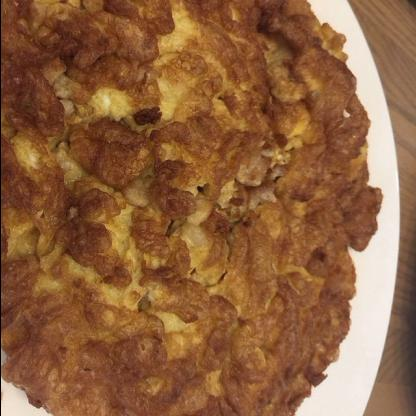Omelette: (0, 0, 372, 410)
